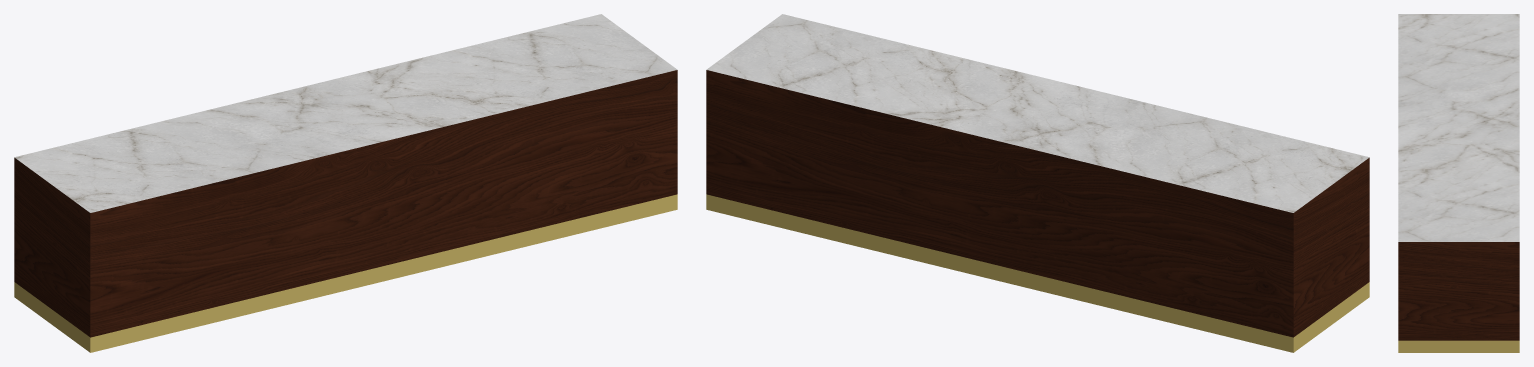
Rendered from bar-counter_back.fbx.
The picture shows the model from 3 angles, left to right: view 1: azimuth 30°, elevation 25°; view 2: azimuth 150°, elevation 25°; view 3: azimuth 270°, elevation 25°; orthographic projection. The views are drawn at different scales.
Visible parts, largest first — view 1: bar-counter_back; view 2: bar-counter_back; view 3: bar-counter_back.
Boxes of the visible parts, left/top/right/bottom form: bar-counter_back: left=14, top=14, right=677, bottom=352; bar-counter_back: left=706, top=14, right=1369, bottom=352; bar-counter_back: left=1398, top=14, right=1519, bottom=352.
Size of the model in its own units: 4 by 0.91 by 0.9.
